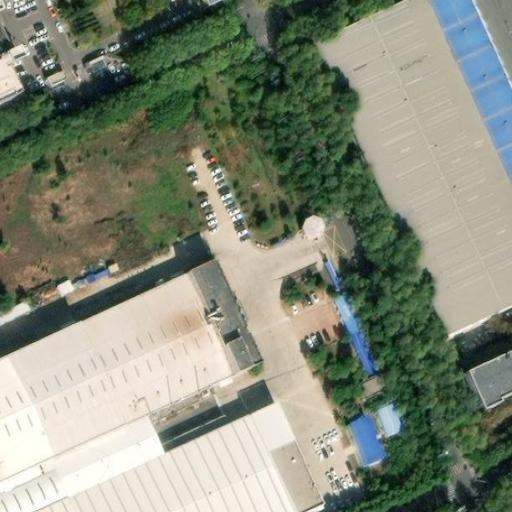building: (307, 0, 512, 341), (38, 403, 325, 512), (58, 423, 169, 497), (184, 265, 255, 377), (324, 261, 381, 378), (462, 0, 512, 111), (462, 357, 512, 415), (0, 42, 30, 98), (349, 417, 384, 461), (373, 403, 405, 438), (297, 209, 323, 235), (41, 61, 67, 84), (53, 272, 76, 294)
